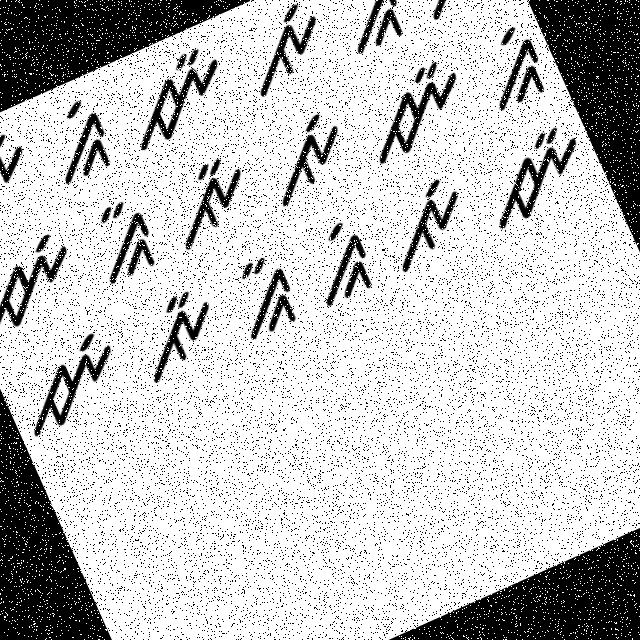an: (146, 142, 266, 258), (112, 282, 234, 393), (400, 0, 513, 25)
ang: (364, 163, 488, 284), (248, 97, 366, 215), (229, 0, 338, 99)
nggan: (78, 187, 171, 290), (218, 244, 312, 344), (321, 0, 420, 68)
nggang: (290, 208, 391, 314), (464, 18, 564, 124), (34, 88, 127, 192)
njan: (341, 42, 486, 182), (103, 31, 244, 157), (464, 113, 601, 235)
njang: (0, 317, 137, 446), (0, 218, 95, 351), (0, 120, 51, 247)
